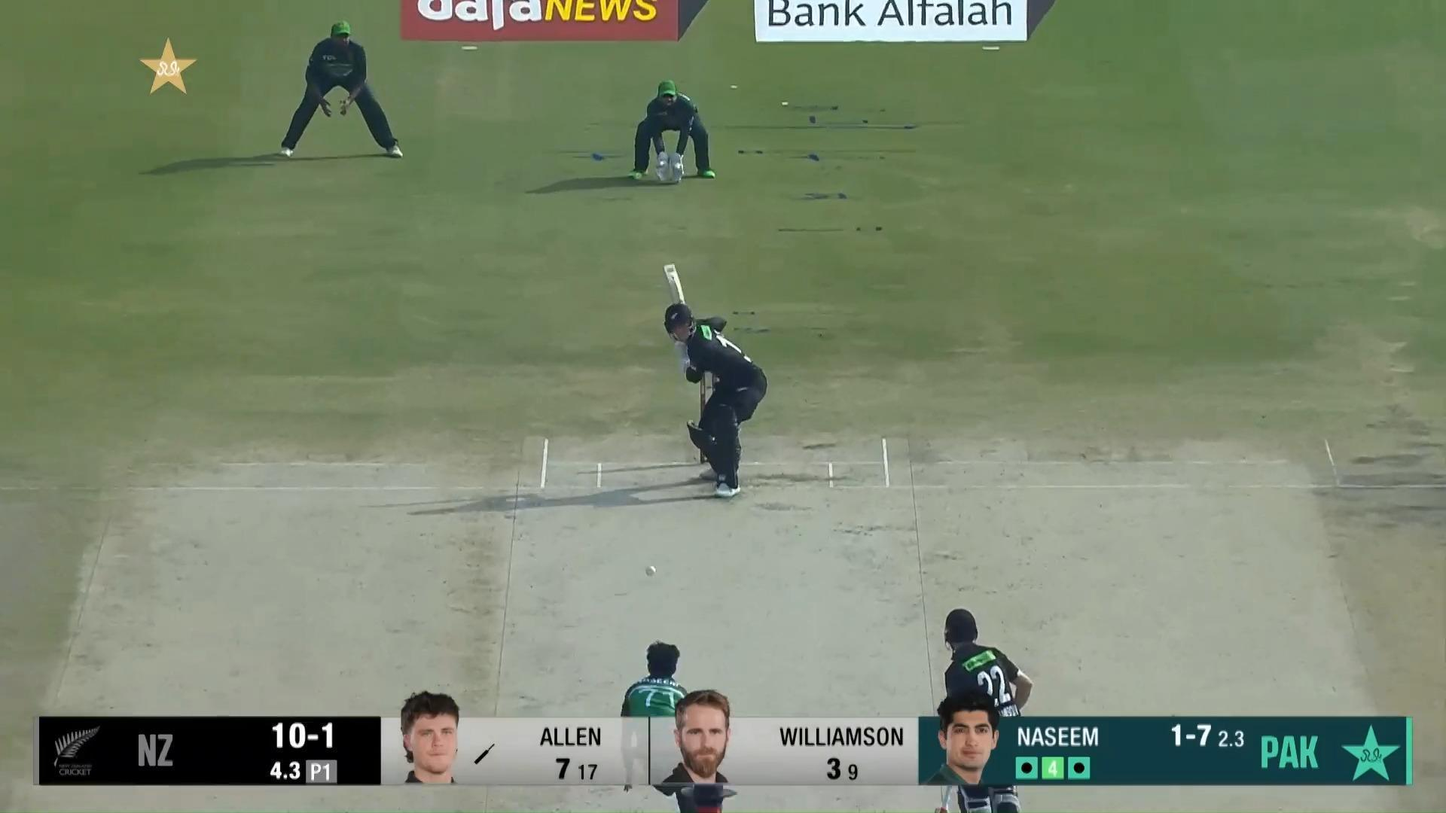BM 1: (660, 260, 768, 498)
BO: (621, 639, 688, 792)
